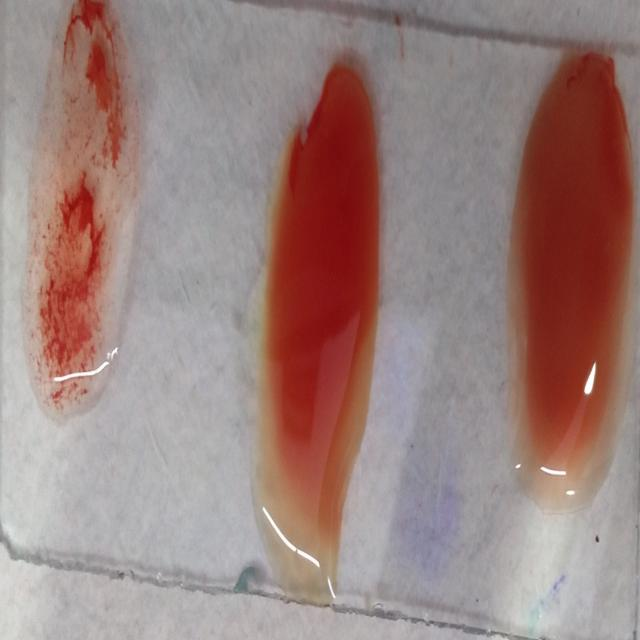D: (29, 5, 134, 383)
